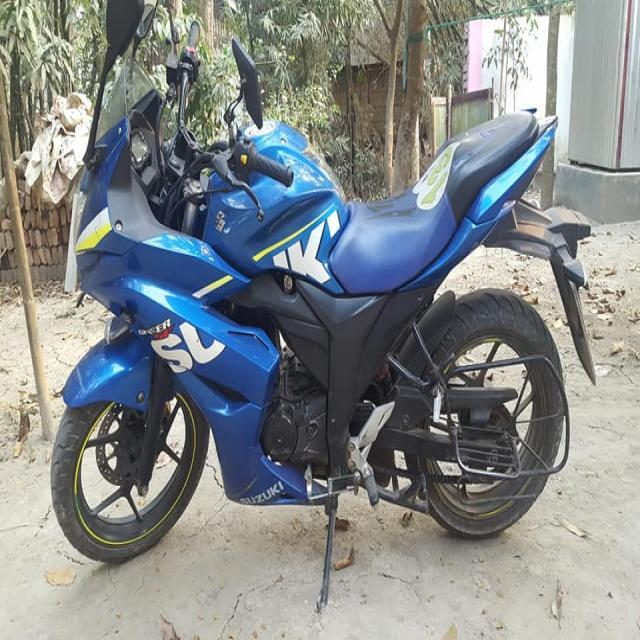Motorbike: (31, 25, 607, 573)
